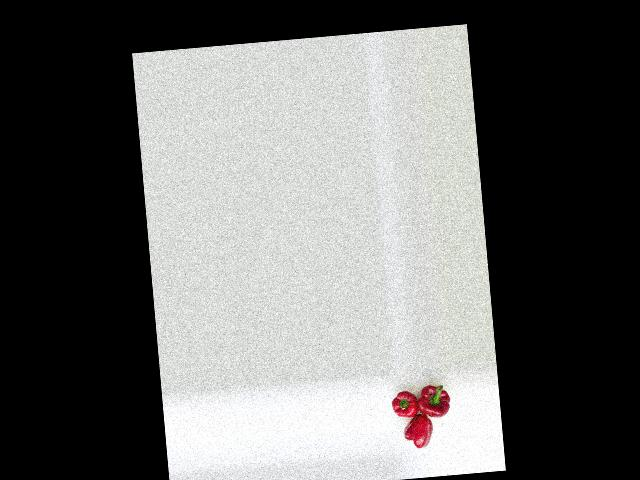bell_pepper: (396, 412, 437, 454)
